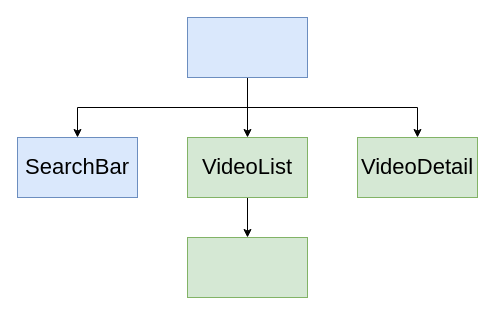
Some shapes in this 495 by 315 pixel diagram are drawn without their labels. The box of each missing label's shape, as (x1, y1, x2, y2) in pixels:
App: (186, 16, 308, 78)
VideoItem: (186, 236, 308, 298)
